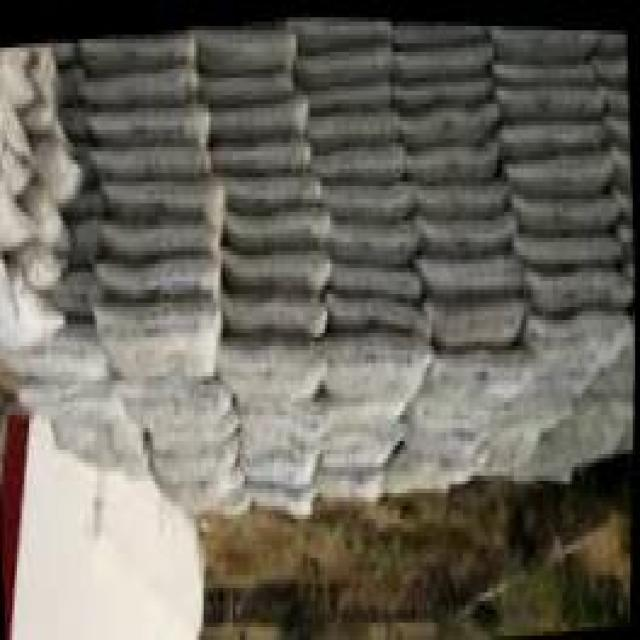gunny_bag: (94, 293, 221, 376), (113, 381, 240, 443), (426, 339, 535, 408), (101, 171, 227, 224), (321, 338, 429, 398), (426, 284, 529, 343), (421, 239, 523, 292), (222, 348, 325, 400), (0, 272, 63, 357), (524, 255, 631, 305), (508, 146, 617, 195), (98, 253, 223, 295), (225, 239, 329, 287), (89, 134, 209, 175), (86, 61, 195, 105), (198, 23, 297, 71), (494, 76, 599, 121), (91, 102, 206, 143), (105, 211, 217, 253), (407, 135, 505, 182), (214, 125, 306, 175), (14, 338, 114, 384), (230, 194, 325, 242), (223, 287, 329, 330), (330, 286, 429, 332), (415, 169, 513, 214), (154, 430, 233, 485), (213, 86, 308, 131), (240, 397, 324, 447), (335, 213, 419, 263), (322, 171, 413, 217), (80, 28, 189, 66), (407, 94, 499, 139), (519, 185, 620, 225), (488, 21, 599, 57), (517, 221, 622, 259), (326, 419, 408, 467), (302, 39, 384, 83), (36, 136, 84, 207), (336, 256, 421, 294), (503, 114, 600, 147), (18, 233, 66, 299), (314, 107, 398, 144), (396, 42, 493, 73), (0, 173, 31, 256), (324, 140, 400, 172), (409, 423, 478, 456), (297, 13, 388, 38), (246, 452, 312, 486), (0, 47, 34, 113), (0, 124, 33, 191), (612, 134, 631, 185), (601, 70, 628, 104), (603, 25, 626, 45), (625, 213, 634, 256)
